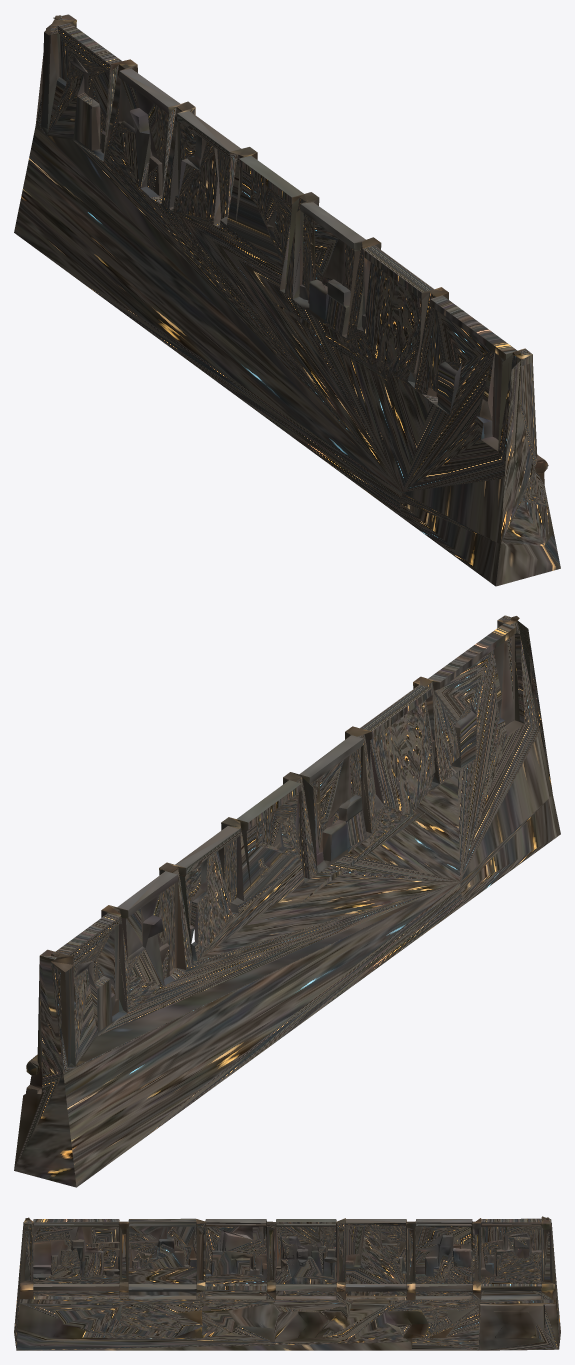
File: u02_far.glb
3 views of the same model, one above another, from view 1: azimuth 30°, elevation 25°; view 2: azimuth 150°, elevation 25°; view 3: azimuth 270°, elevation 25° (orthographic). The views are drawn at different scales.
Parts seen in each view (by area): view 1: u02_far; view 2: u02_far; view 3: u02_far.
Part boxes in pixels (x1=…): u02_far: x1=14, y1=14, x2=560, y2=586; u02_far: x1=14, y1=615, x2=560, y2=1187; u02_far: x1=14, y1=1216, x2=560, y2=1350.
Size of the model in its own units: 1.48 by 4.5 by 18.12.
1 material, 1 textured.
